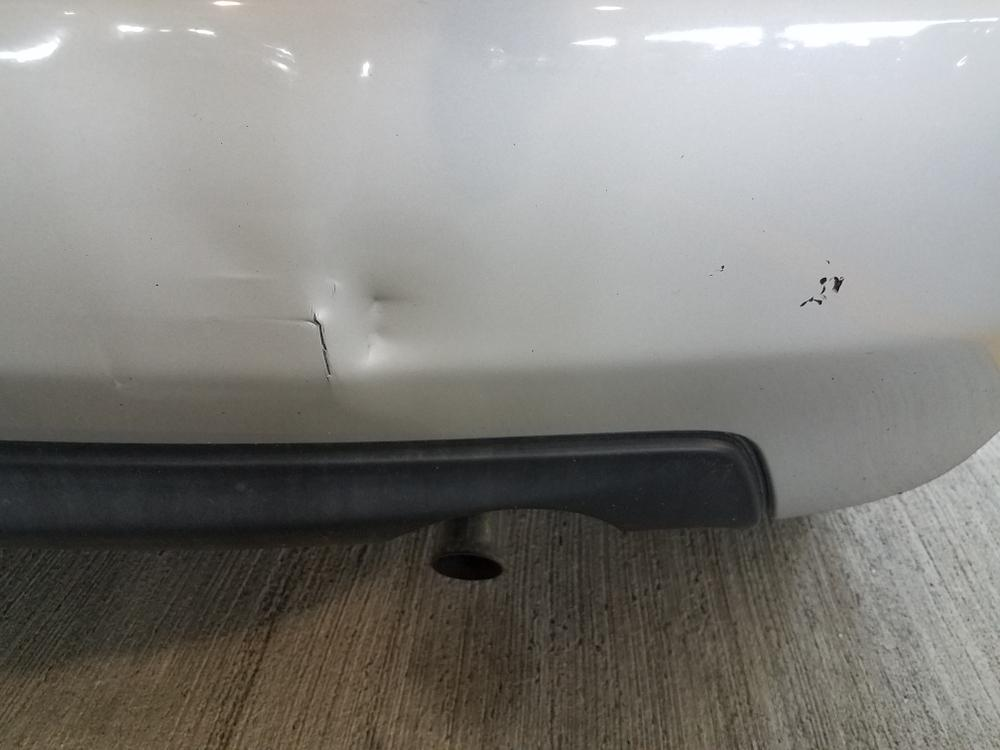crack: (275, 308, 333, 387)
dent: (334, 269, 420, 373)
scratch: (793, 272, 847, 311)
